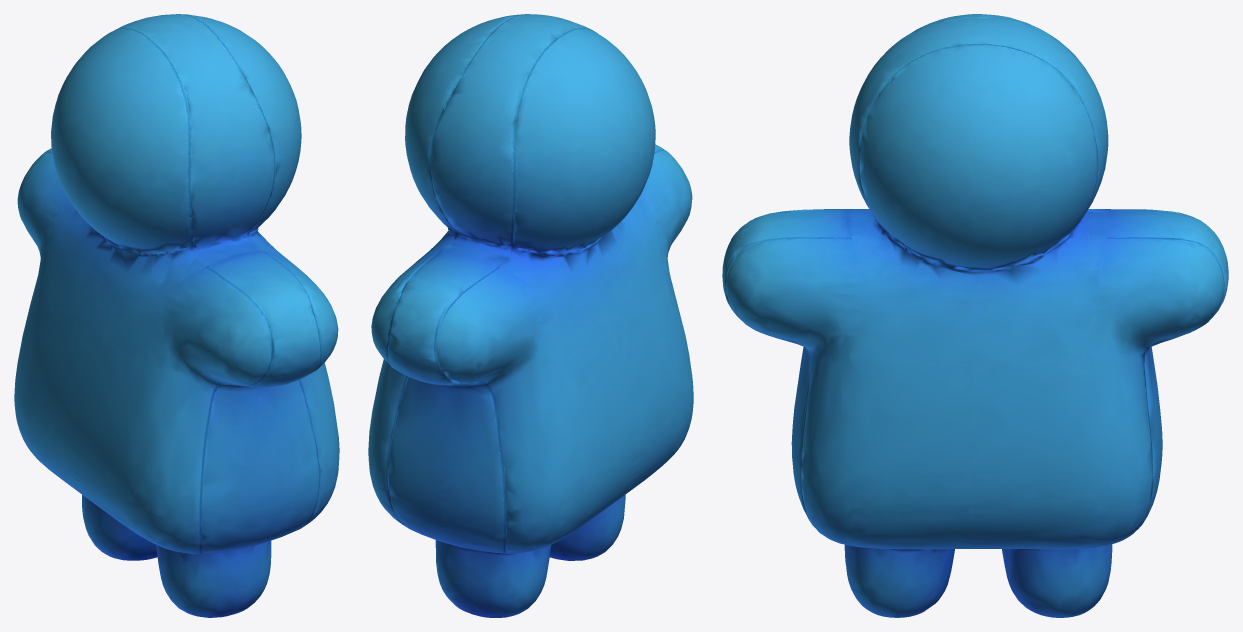
File: p-usuario.glb
The picture shows the model from 3 angles, left to right: view 1: azimuth 30°, elevation 25°; view 2: azimuth 150°, elevation 25°; view 3: azimuth 270°, elevation 25°; orthographic projection. The views are drawn at different scales.
Parts seen in each view (by area): view 1: tripo_node_f559760d-3321-4124-b31d-985c1c4991a6; view 2: tripo_node_f559760d-3321-4124-b31d-985c1c4991a6; view 3: tripo_node_f559760d-3321-4124-b31d-985c1c4991a6.
Boxes of the visible parts, x1=… form: tripo_node_f559760d-3321-4124-b31d-985c1c4991a6: x1=14, y1=14, x2=339, y2=617; tripo_node_f559760d-3321-4124-b31d-985c1c4991a6: x1=368, y1=14, x2=693, y2=617; tripo_node_f559760d-3321-4124-b31d-985c1c4991a6: x1=722, y1=14, x2=1228, y2=617.
Size of the model in its own units: 0.4109 by 0.9999 by 0.7906.
1 material, 1 textured.
